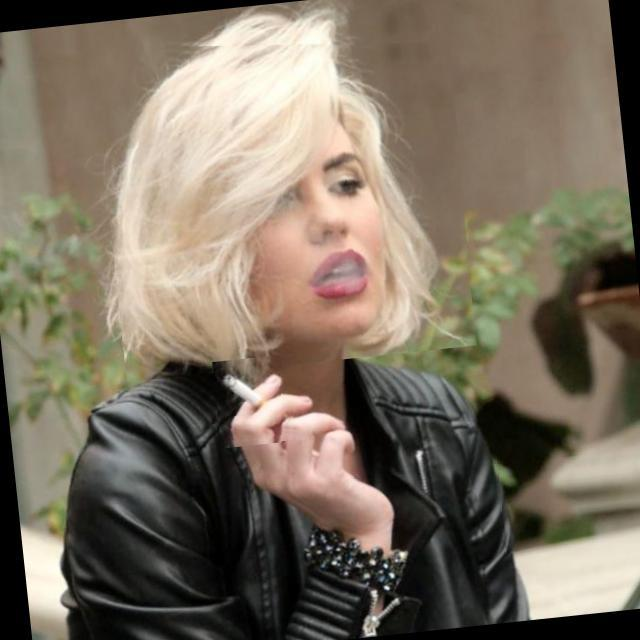cigarette: (212, 353, 300, 448)
